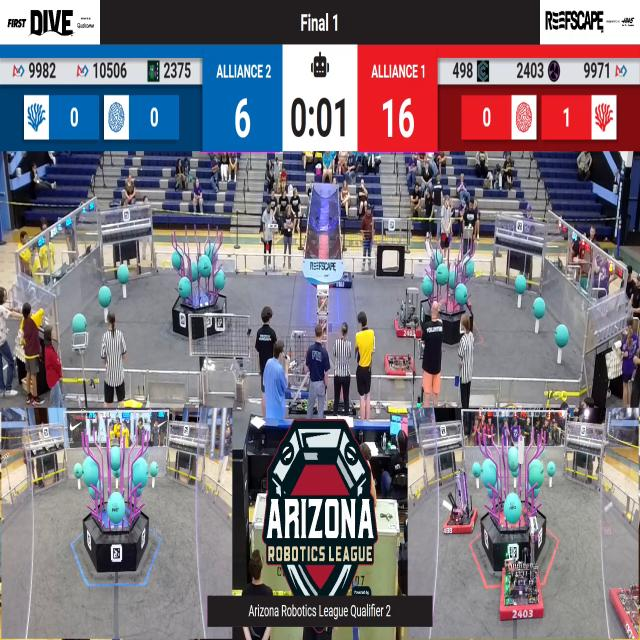scoreboard: (1, 47, 640, 152)
